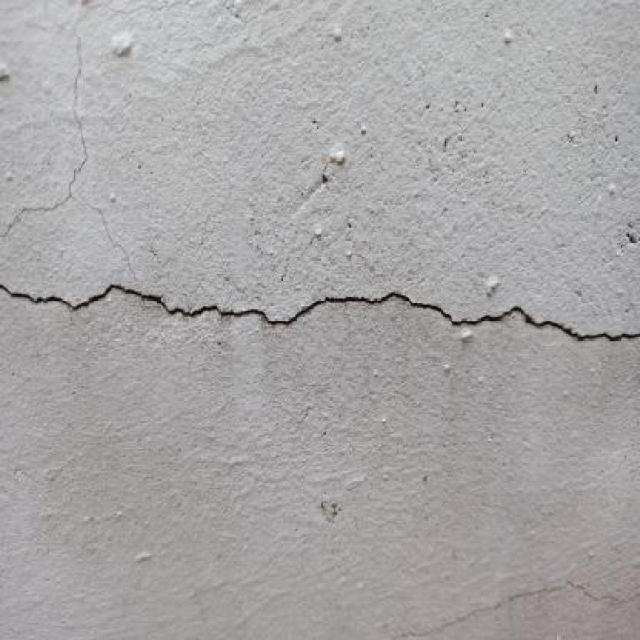GRIETA: (0, 283, 639, 340), (0, 36, 87, 237), (400, 581, 605, 639), (78, 197, 134, 277)
